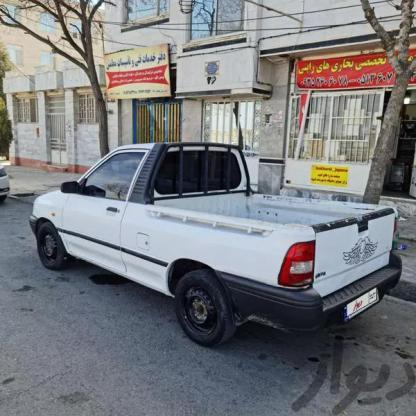Car: (5, 129, 382, 349)
